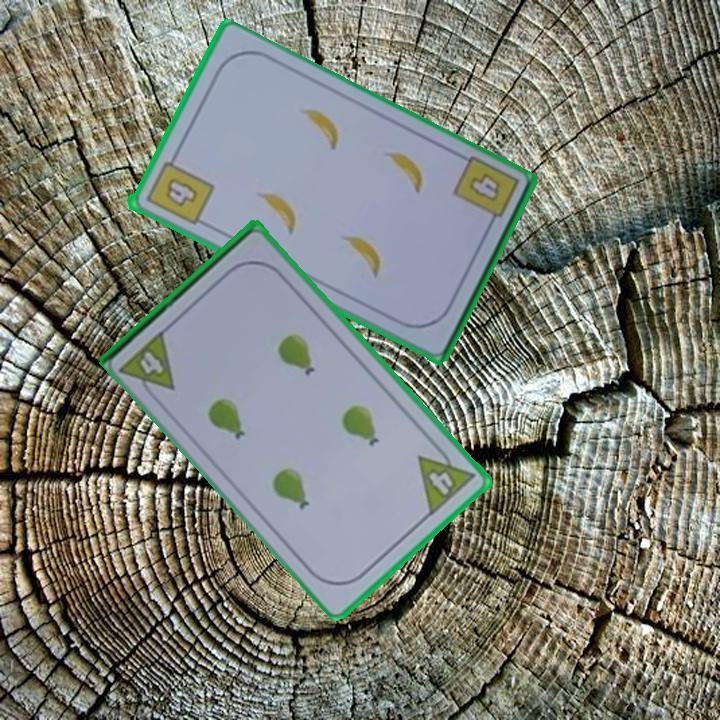4b: (141, 150, 216, 228), (465, 169, 503, 205)
4p: (414, 438, 478, 519), (117, 326, 178, 405)
